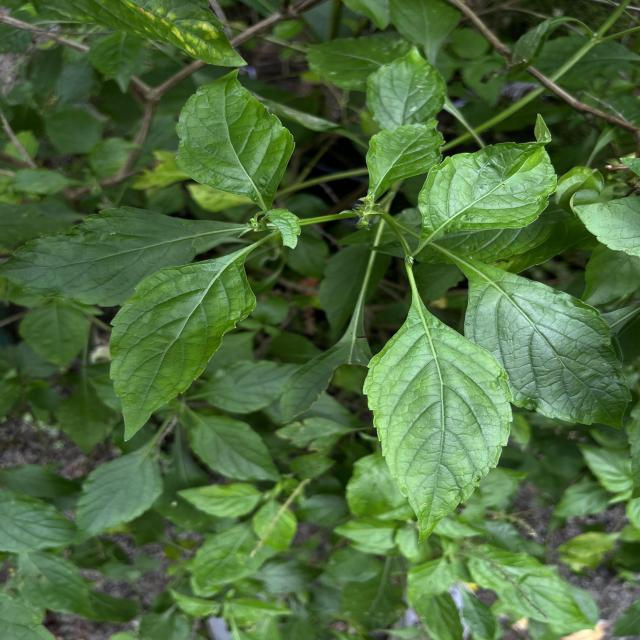Ocimum gratissimum: (358, 264, 516, 548), (438, 248, 636, 434), (103, 234, 262, 446), (0, 200, 250, 310), (411, 110, 562, 258), (170, 64, 300, 214), (362, 117, 448, 200)
